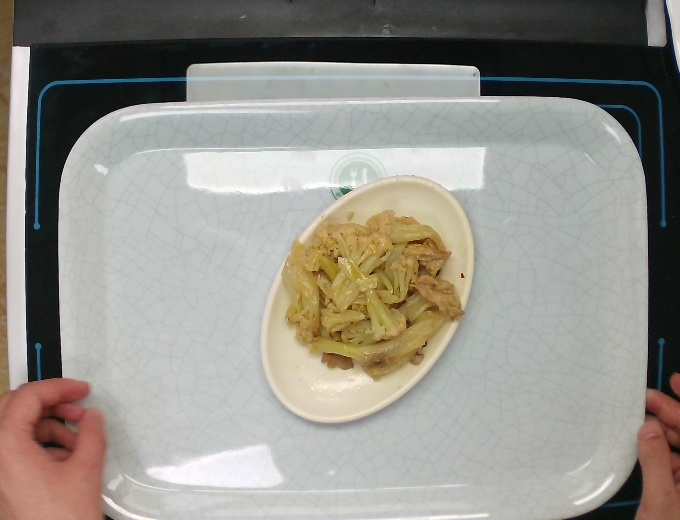JYsf-Tuo_Yuan_Wan: (253, 168, 486, 428)
